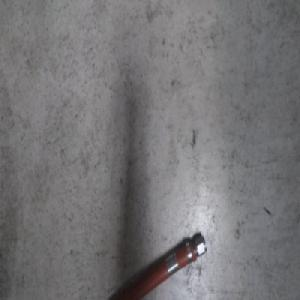Hose: (89, 229, 208, 300)
